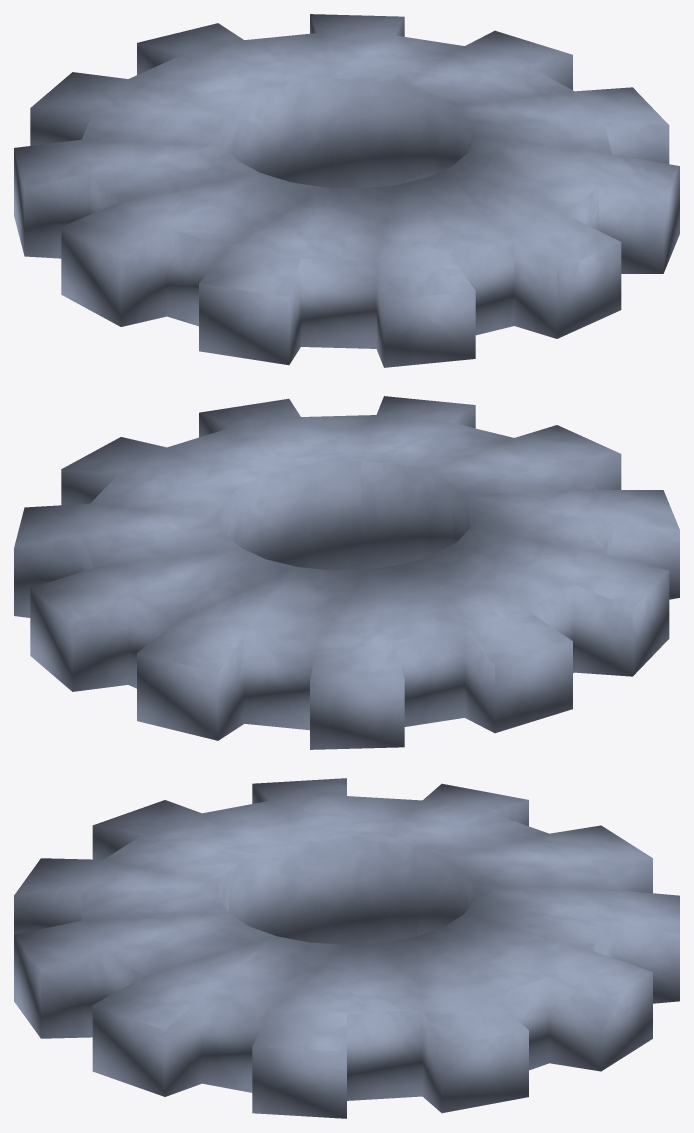
File: Cog1.fbx
3 renders of one model, top to bottom at view 1: azimuth 30°, elevation 25°; view 2: azimuth 150°, elevation 25°; view 3: azimuth 270°, elevation 25°, orthographic.
Visible parts, largest first — view 1: polySurface1159; view 2: polySurface1159; view 3: polySurface1159.
Part boxes in pixels (<box>): polySurface1159: <box>14,14,679,367</box>; polySurface1159: <box>14,396,679,749</box>; polySurface1159: <box>14,778,679,1118</box>.
Size of the model in its own units: 13.07 by 2.51 by 13.42.
